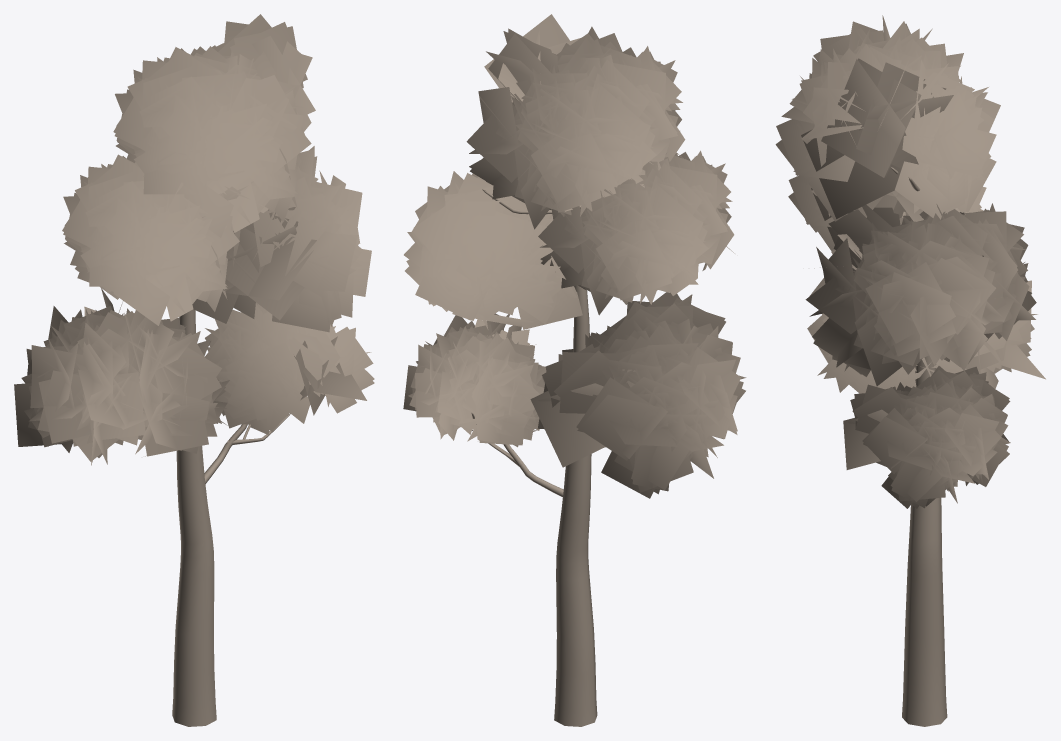
Rendered from BirchTree_1.glb.
The picture shows the model from 3 angles, left to right: view 1: azimuth 30°, elevation 25°; view 2: azimuth 150°, elevation 25°; view 3: azimuth 270°, elevation 25°; orthographic projection. The views are drawn at different scales.
Parts seen in each view (by area): view 1: BirchTree_Leaves, BirchTree_Bark; view 2: BirchTree_Leaves, BirchTree_Bark; view 3: BirchTree_Leaves, BirchTree_Bark.
Boxes of the visible parts, left/top/right/bottom form: BirchTree_Leaves: left=14, top=14, right=374, bottom=465; BirchTree_Bark: left=172, top=309, right=290, bottom=726; BirchTree_Leaves: left=403, top=14, right=746, bottom=498; BirchTree_Bark: left=471, top=189, right=597, bottom=726; BirchTree_Leaves: left=775, top=15, right=1045, bottom=508; BirchTree_Bark: left=890, top=167, right=984, bottom=726.
Bounding box in the file's own units: 2.71 × 5.45 × 1.94.
